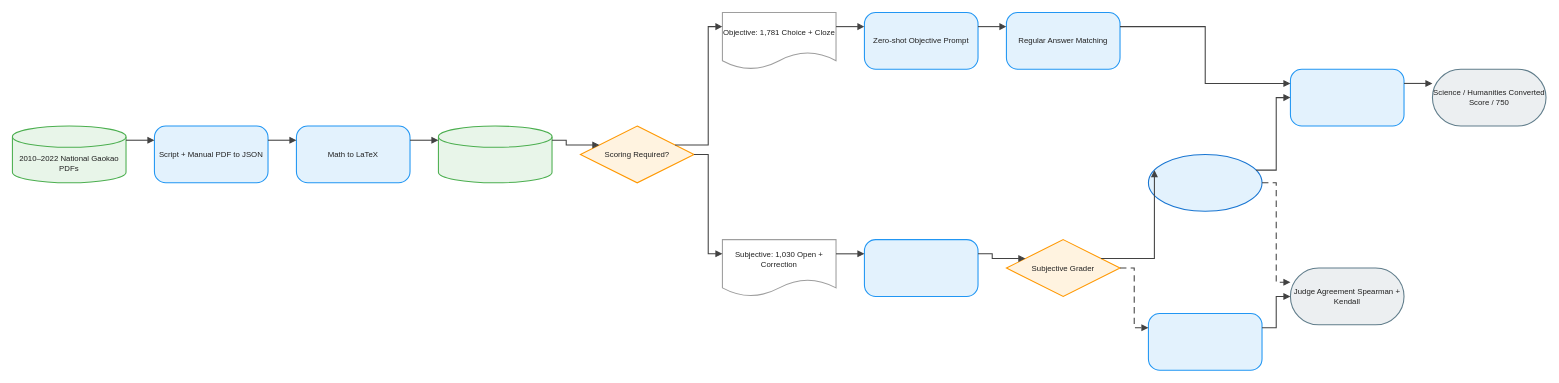
This 1559x383 diagram has some shape labels left out. The shapes that lost their labels are listed below. From the top down, each one's centre as x and y in pixels, then its label:
At (1347,97): "Subject Objective / Subjective Rates".
At (495,154): "9 Subjects 2,811 Questions".
At (1205,182): "2 Teachers Average Score".
At (921,268): "Zero-shot Subjective Prompt".
At (1205,341): "GPT-4-turbo Judge Criteria + Temp 0".
